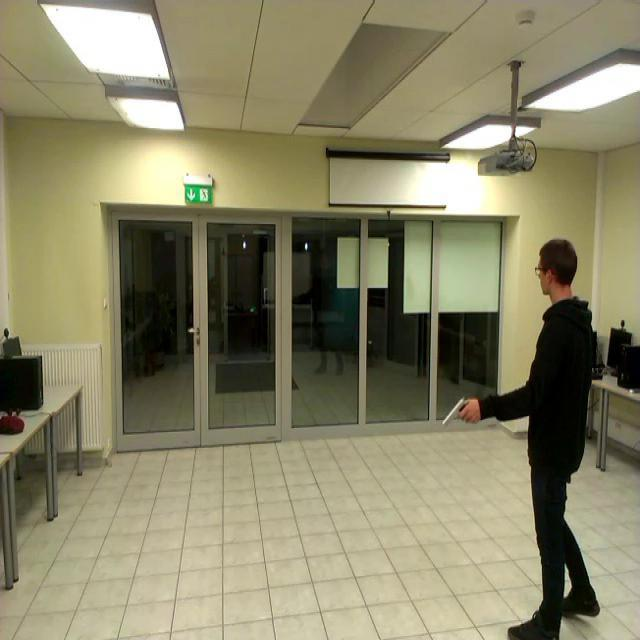weapon: (438, 396, 472, 428)
